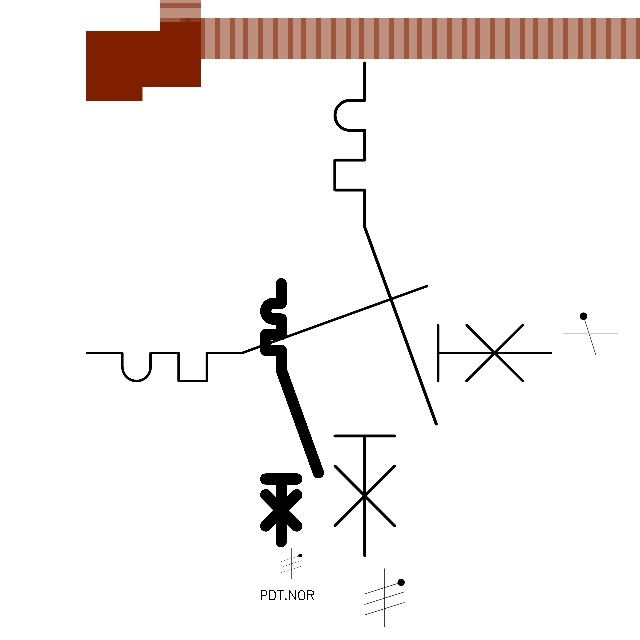interruptor_termomagnetico: (322, 50, 449, 569), (75, 274, 563, 393), (259, 277, 325, 548)
